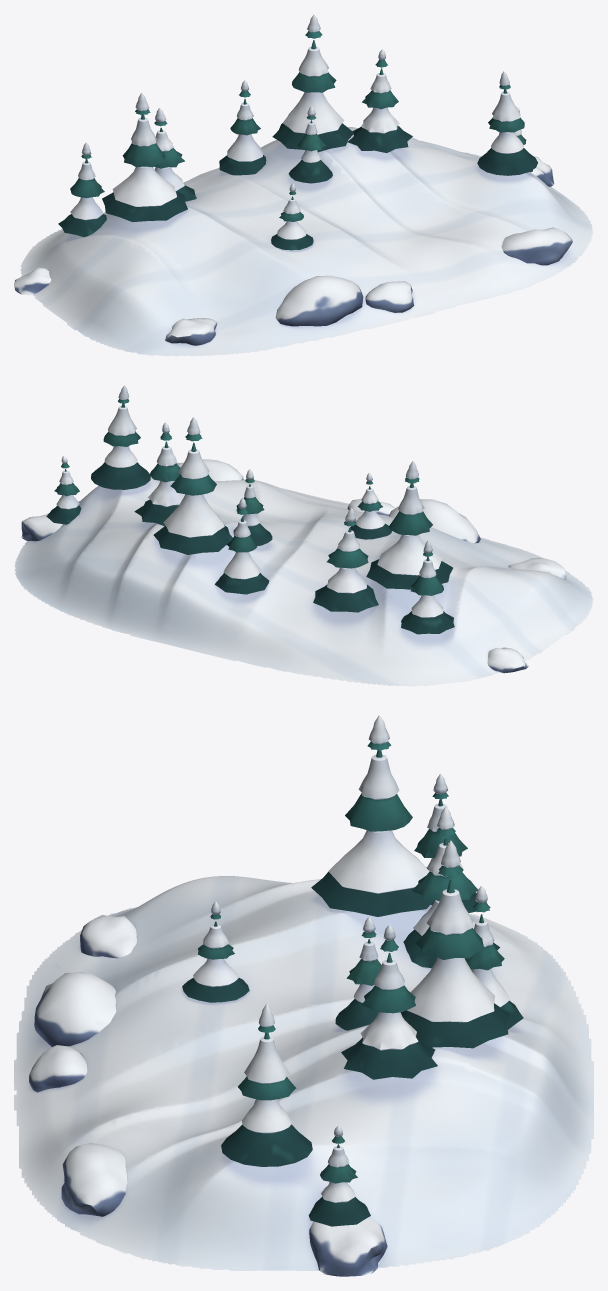
The model's file is FP_B06_SnowHills.fbx.
3 views of the same model, one above another, from view 1: azimuth 30°, elevation 25°; view 2: azimuth 150°, elevation 25°; view 3: azimuth 270°, elevation 25° (orthographic). The views are drawn at different scales.
Visible parts, largest first — view 1: Hills_LOD0, Firs_LOD0, Rocks_LOD0; view 2: Hills_LOD0, Firs_LOD0, Rocks_LOD0; view 3: Hills_LOD0, Firs_LOD0, Rocks_LOD0.
Boxes of the visible parts, x1=… form: Hills_LOD0: x1=20, y1=127, x2=593, y2=356; Firs_LOD0: x1=58, y1=14, x2=537, y2=250; Rocks_LOD0: x1=14, y1=156, x2=572, y2=345; Hills_LOD0: x1=14, y1=477, x2=593, y2=686; Firs_LOD0: x1=46, y1=385, x2=454, y2=634; Rocks_LOD0: x1=21, y1=459, x2=566, y2=673; Hills_LOD0: x1=14, y1=876, x2=593, y2=1270; Firs_LOD0: x1=182, y1=715, x2=523, y2=1226; Rocks_LOD0: x1=29, y1=914, x2=387, y2=1276.
Size of what is drawn, in the model's own units: 17.86 by 6.18 by 11.35.
